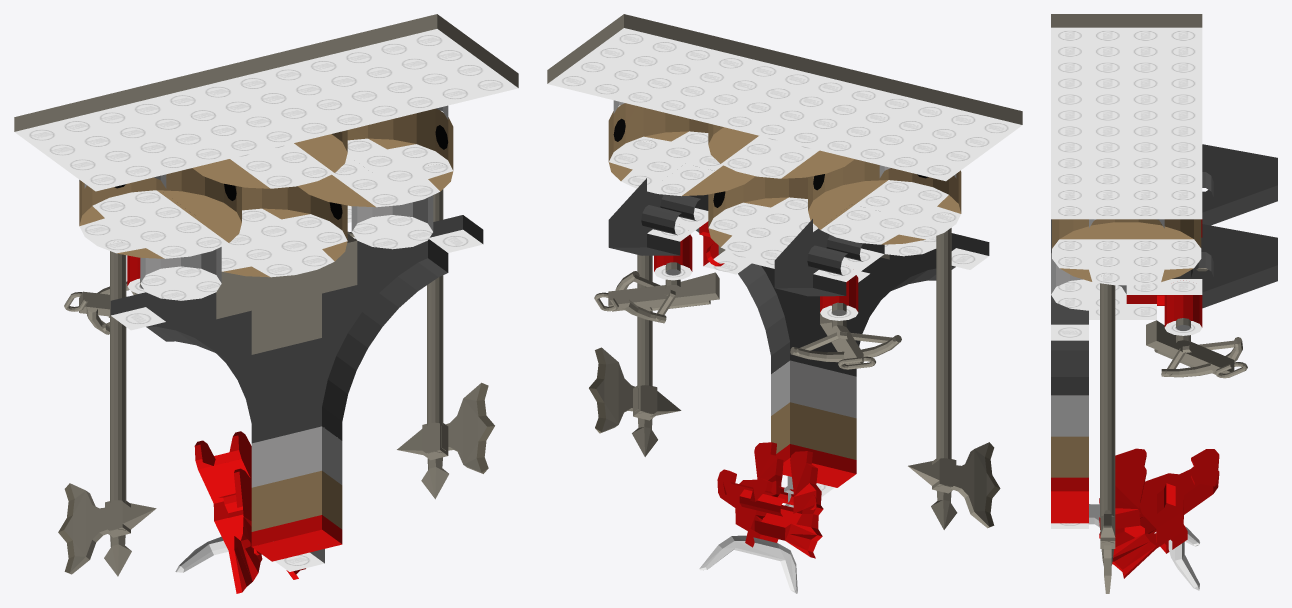
3 renders of one model, left to right at view 1: azimuth 30°, elevation 25°; view 2: azimuth 150°, elevation 25°; view 3: azimuth 270°, elevation 25°, orthographic. The views are drawn at different scales.
Visible parts, largest first — view 1: 004_OC_6032B1_PART_1, 081_OC_6032B1_Discs, 058_OC_6032B1_Lower_back, 053_OC_6032B1_Mask_support, 020_OC_6032B1_PART_13, 026_OC_6032B1_PART_12, 076_OC_6032B1_Cylinders, 047_L_612500_Mask, 043_L_257000; view 2: 004_OC_6032B1_PART_1, 081_OC_6032B1_Discs, 072_OC_6032B2_Part_4, 058_OC_6032B1_Lower_back, 047_L_612500_Mask, 053_OC_6032B1_Mask_support, 020_OC_6032B1_PART_13, 026_OC_6032B1_PART_12, 036_L_257000, 067_OC_6032B1_Red_bits, 043_L_257000, 076_OC_6032B1_Cylinders; view 3: 004_OC_6032B1_PART_1, 072_OC_6032B2_Part_4, 047_L_612500_Mask, 081_OC_6032B1_Discs, 053_OC_6032B1_Mask_support, 026_OC_6032B1_PART_12, 058_OC_6032B1_Lower_back, 036_L_257000, 067_OC_6032B1_Red_bits, 076_OC_6032B1_Cylinders, 064_OC_6032B1_1_x_4_GD.
Part boxes in pixels (left/top/right/bottom): 004_OC_6032B1_PART_1: left=14, top=14, right=518, bottom=191; 081_OC_6032B1_Discs: left=79, top=108, right=453, bottom=277; 058_OC_6032B1_Lower_back: left=110, top=215, right=483, bottom=443; 053_OC_6032B1_Mask_support: left=251, top=426, right=342, bottom=571; 020_OC_6032B1_PART_13: left=58, top=251, right=156, bottom=576; 026_OC_6032B1_PART_12: left=397, top=165, right=494, bottom=499; 076_OC_6032B1_Cylinders: left=84, top=105, right=448, bottom=300; 047_L_612500_Mask: left=175, top=431, right=305, bottom=593; 043_L_257000: left=64, top=278, right=140, bottom=334; 004_OC_6032B1_PART_1: left=547, top=14, right=1022, bottom=181; 081_OC_6032B1_Discs: left=608, top=103, right=961, bottom=261; 072_OC_6032B2_Part_4: left=608, top=178, right=884, bottom=296; 058_OC_6032B1_Lower_back: left=696, top=228, right=989, bottom=376; 047_L_612500_Mask: left=699, top=442, right=823, bottom=593; 053_OC_6032B1_Mask_support: left=771, top=360, right=856, bottom=507; 020_OC_6032B1_PART_13: left=908, top=228, right=1000, bottom=529; 026_OC_6032B1_PART_12: left=589, top=255, right=681, bottom=456; 036_L_257000: left=594, top=262, right=719, bottom=323; 067_OC_6032B1_Red_bits: left=654, top=221, right=858, bottom=320; 043_L_257000: left=790, top=302, right=901, bottom=369; 076_OC_6032B1_Cylinders: left=613, top=100, right=956, bottom=256; 004_OC_6032B1_PART_1: left=1051, top=14, right=1202, bottom=219; 072_OC_6032B2_Part_4: left=1126, top=144, right=1277, bottom=308; 047_L_612500_Mask: left=1099, top=448, right=1219, bottom=590; 081_OC_6032B1_Discs: left=1052, top=219, right=1201, bottom=285; 053_OC_6032B1_Mask_support: left=1051, top=395, right=1099, bottom=528; 026_OC_6032B1_PART_12: left=1100, top=283, right=1115, bottom=593; 058_OC_6032B1_Lower_back: left=1051, top=219, right=1088, bottom=395; 036_L_257000: left=1146, top=318, right=1247, bottom=378; 067_OC_6032B1_Red_bits: left=1126, top=219, right=1202, bottom=335; 076_OC_6032B1_Cylinders: left=1051, top=219, right=1164, bottom=310; 064_OC_6032B1_1_x_4_GD: left=1089, top=295, right=1126, bottom=319.
Size of the model in its own units: 9.92 by 10.69 by 4.8.
Materials: 12 (3 with a texture image).
